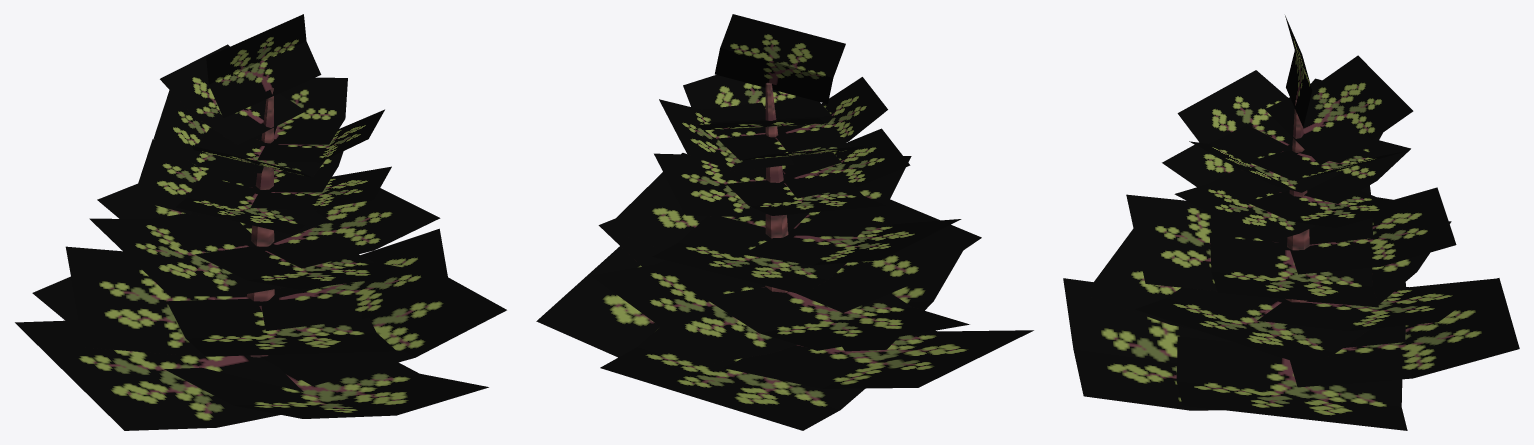
File: small_tree_01.fbx
The picture shows the model from 3 angles, left to right: view 1: azimuth 30°, elevation 25°; view 2: azimuth 150°, elevation 25°; view 3: azimuth 270°, elevation 25°; orthographic projection. The views are drawn at different scales.
Parts seen in each view (by area): view 1: small_tree_01; view 2: small_tree_01; view 3: small_tree_01.
Boxes of the visible parts, box(x1,y1,x2,y2) form: small_tree_01: box(15, 14, 506, 430); small_tree_01: box(536, 14, 1033, 430); small_tree_01: box(1063, 15, 1519, 430).
Bounding box in the file's own units: 400 × 371 × 411.
Materials: 1 (1 with a texture image).
